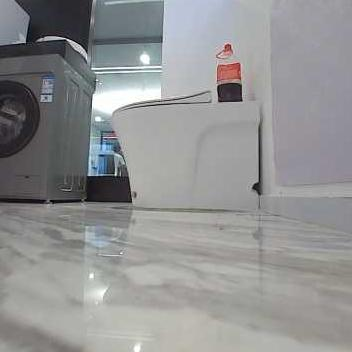bottle: (214, 42, 243, 101)
toilet: (108, 88, 260, 210)
washing_machine1: (1, 38, 88, 204)
